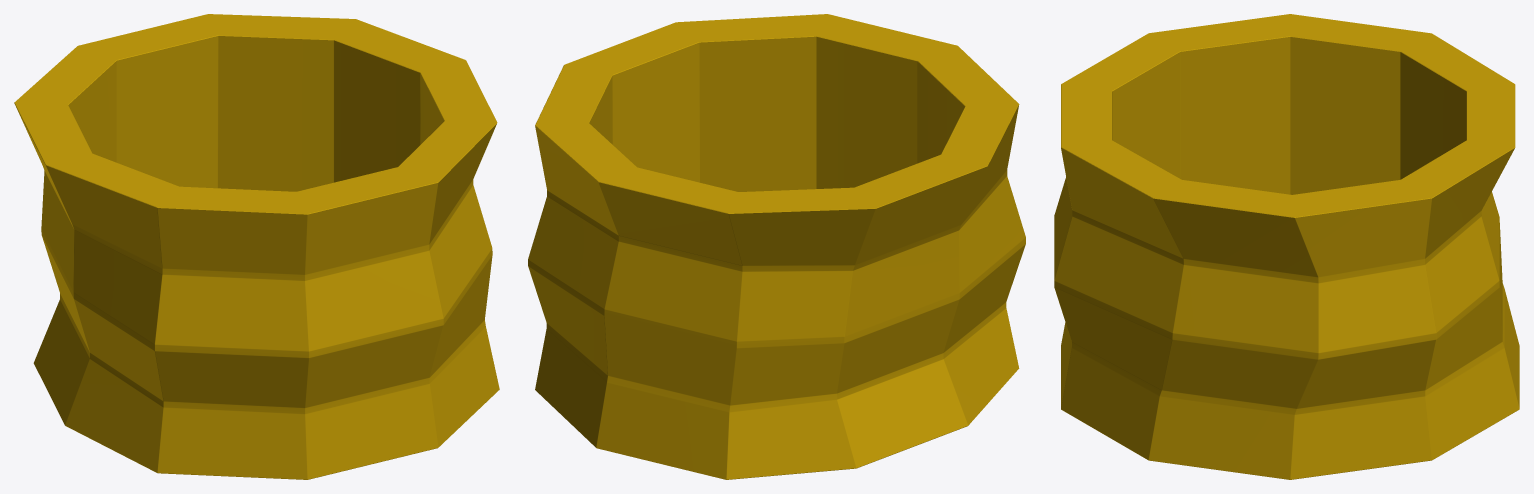
Rendered from Well 1.fbx.
3 views of the same model, side by side, from view 1: azimuth 30°, elevation 25°; view 2: azimuth 150°, elevation 25°; view 3: azimuth 270°, elevation 25° (orthographic).
Visible parts, largest first — view 1: pCylinder1; view 2: pCylinder1; view 3: pCylinder1.
Boxes of the visible parts, x1,y1,x2,y2 form: pCylinder1: (14,14,499,479); pCylinder1: (528,14,1025,479); pCylinder1: (1054,14,1519,479).
Bounding box in the file's own units: 2.03 × 1.2 × 1.93.
